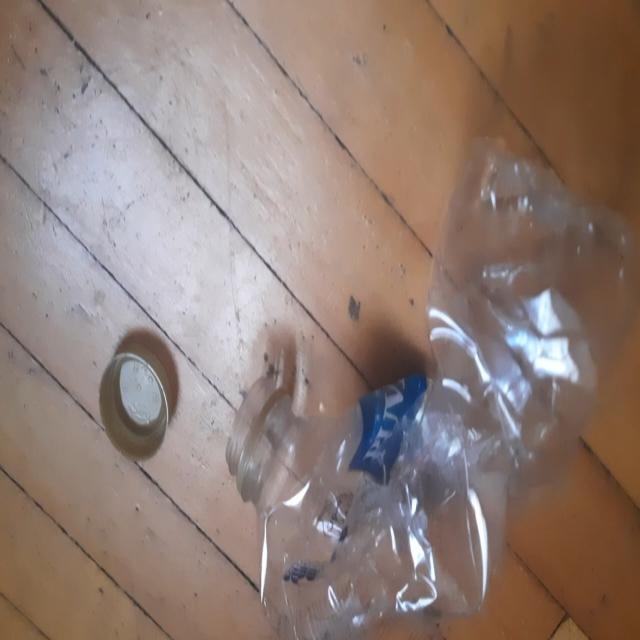Plastic: (233, 135, 637, 637)
